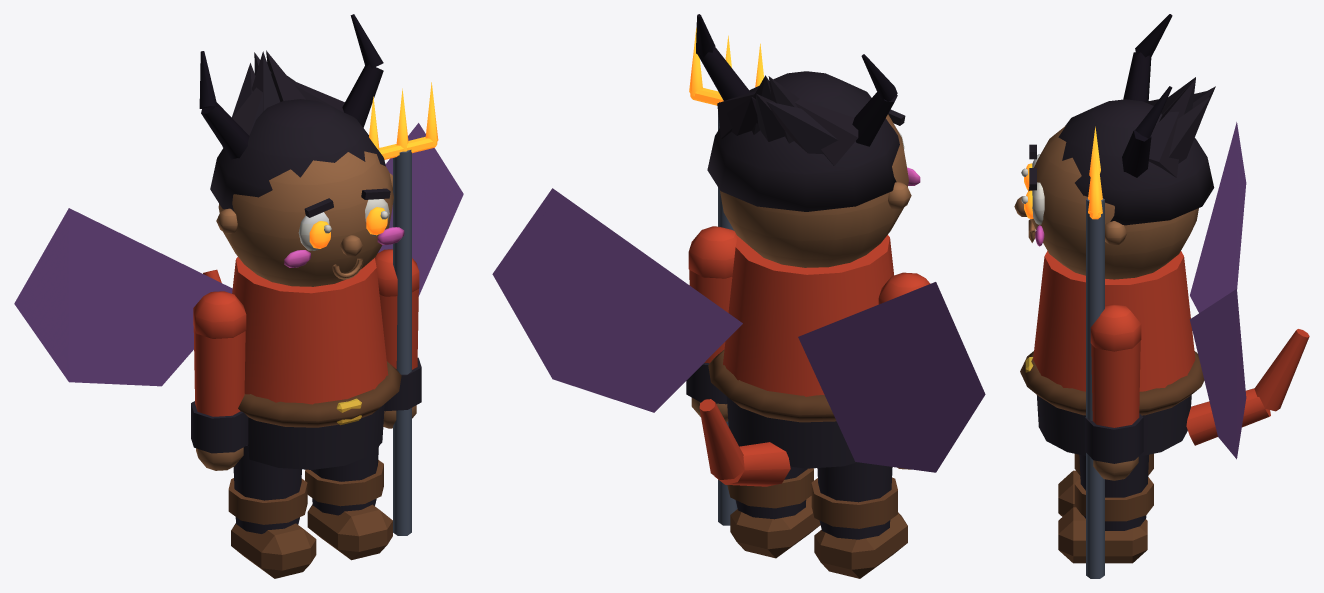
The model's file is hero_azazel.glb.
3 renders of one model, left to right at view 1: azimuth 30°, elevation 25°; view 2: azimuth 150°, elevation 25°; view 3: azimuth 270°, elevation 25°, orthographic. The views are drawn at different scales.
Parts seen in each view (by area): view 1: body_t0_palette, armr_t0_palette, arml_t0_palette, legl_t0_palette, legr_t0_palette, armr_t0_fire, body_t0_fire; view 2: body_t0_palette, legl_t0_palette, legr_t0_palette, armr_t0_palette, armr_t0_fire, arml_t0_palette; view 3: body_t0_palette, armr_t0_palette, legr_t0_palette, armr_t0_fire, legl_t0_palette.
Boxes of the visible parts, x1=… form: body_t0_palette: x1=14, y1=14, x2=463, y2=469; armr_t0_palette: x1=375, y1=150, x2=421, y2=535; arml_t0_palette: x1=191, y1=291, x2=248, y2=470; legl_t0_palette: x1=228, y1=445, x2=316, y2=578; legr_t0_palette: x1=305, y1=446, x2=392, y2=560; armr_t0_fire: x1=369, y1=82, x2=438, y2=159; body_t0_fire: x1=309, y1=207, x2=387, y2=248; body_t0_palette: x1=492, y1=14, x2=985, y2=486; legl_t0_palette: x1=811, y1=462, x2=907, y2=578; legr_t0_palette: x1=727, y1=466, x2=820, y2=558; armr_t0_palette: x1=686, y1=102, x2=737, y2=525; armr_t0_fire: x1=689, y1=27, x2=763, y2=105; arml_t0_palette: x1=878, y1=272, x2=930, y2=469; body_t0_palette: x1=1014, y1=14, x2=1309, y2=459; armr_t0_palette: x1=1085, y1=198, x2=1143, y2=578; legr_t0_palette: x1=1058, y1=454, x2=1153, y2=563; armr_t0_fire: x1=1088, y1=126, x2=1102, y2=219; legl_t0_palette: x1=1058, y1=453, x2=1153, y2=516.
Size of the model in its own units: 0.54 by 0.5711 by 0.3132.
